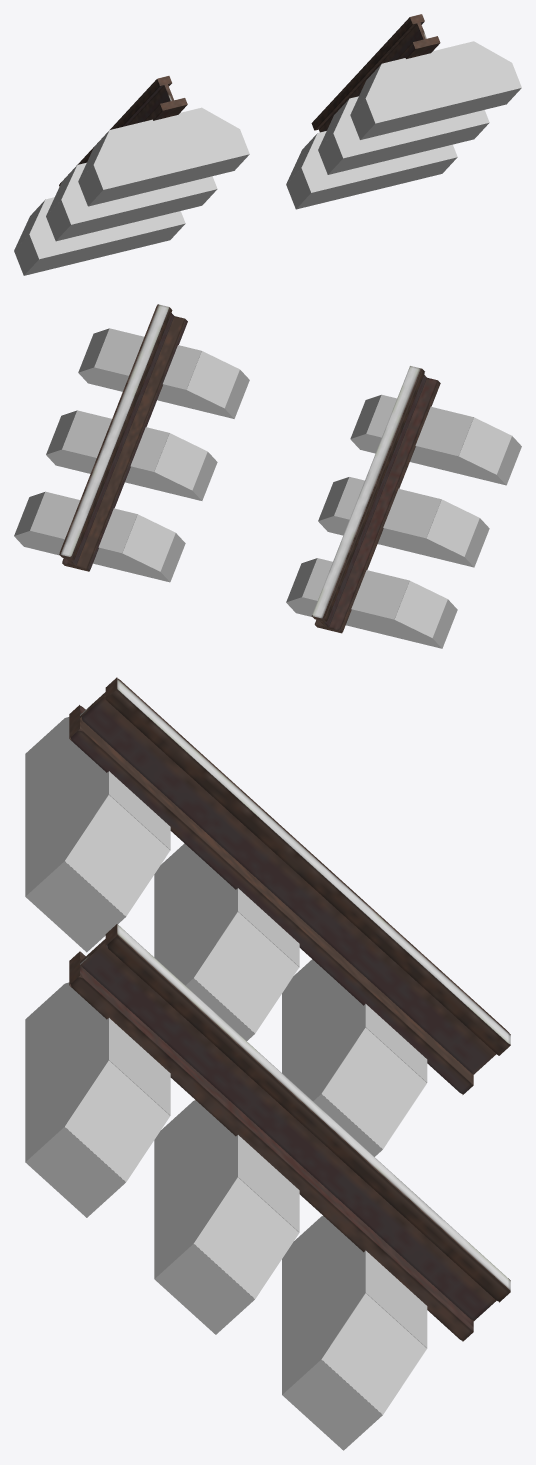
Rendered from ascending.obj.
3 views of the same model, one above another, from view 1: azimuth 30°, elevation 25°; view 2: azimuth 150°, elevation 25°; view 3: azimuth 270°, elevation 25° (orthographic). The views are drawn at different scales.
Visible parts, largest first — view 1: cube; view 2: cube; view 3: cube.
Boxes of the visible parts, x1,y1,x2,y2 form: cube: (14,14,521,275); cube: (14,304,521,648); cube: (25,677,510,1450).
Size of the model in its own units: 2.5 by 1.26 by 1.26.
